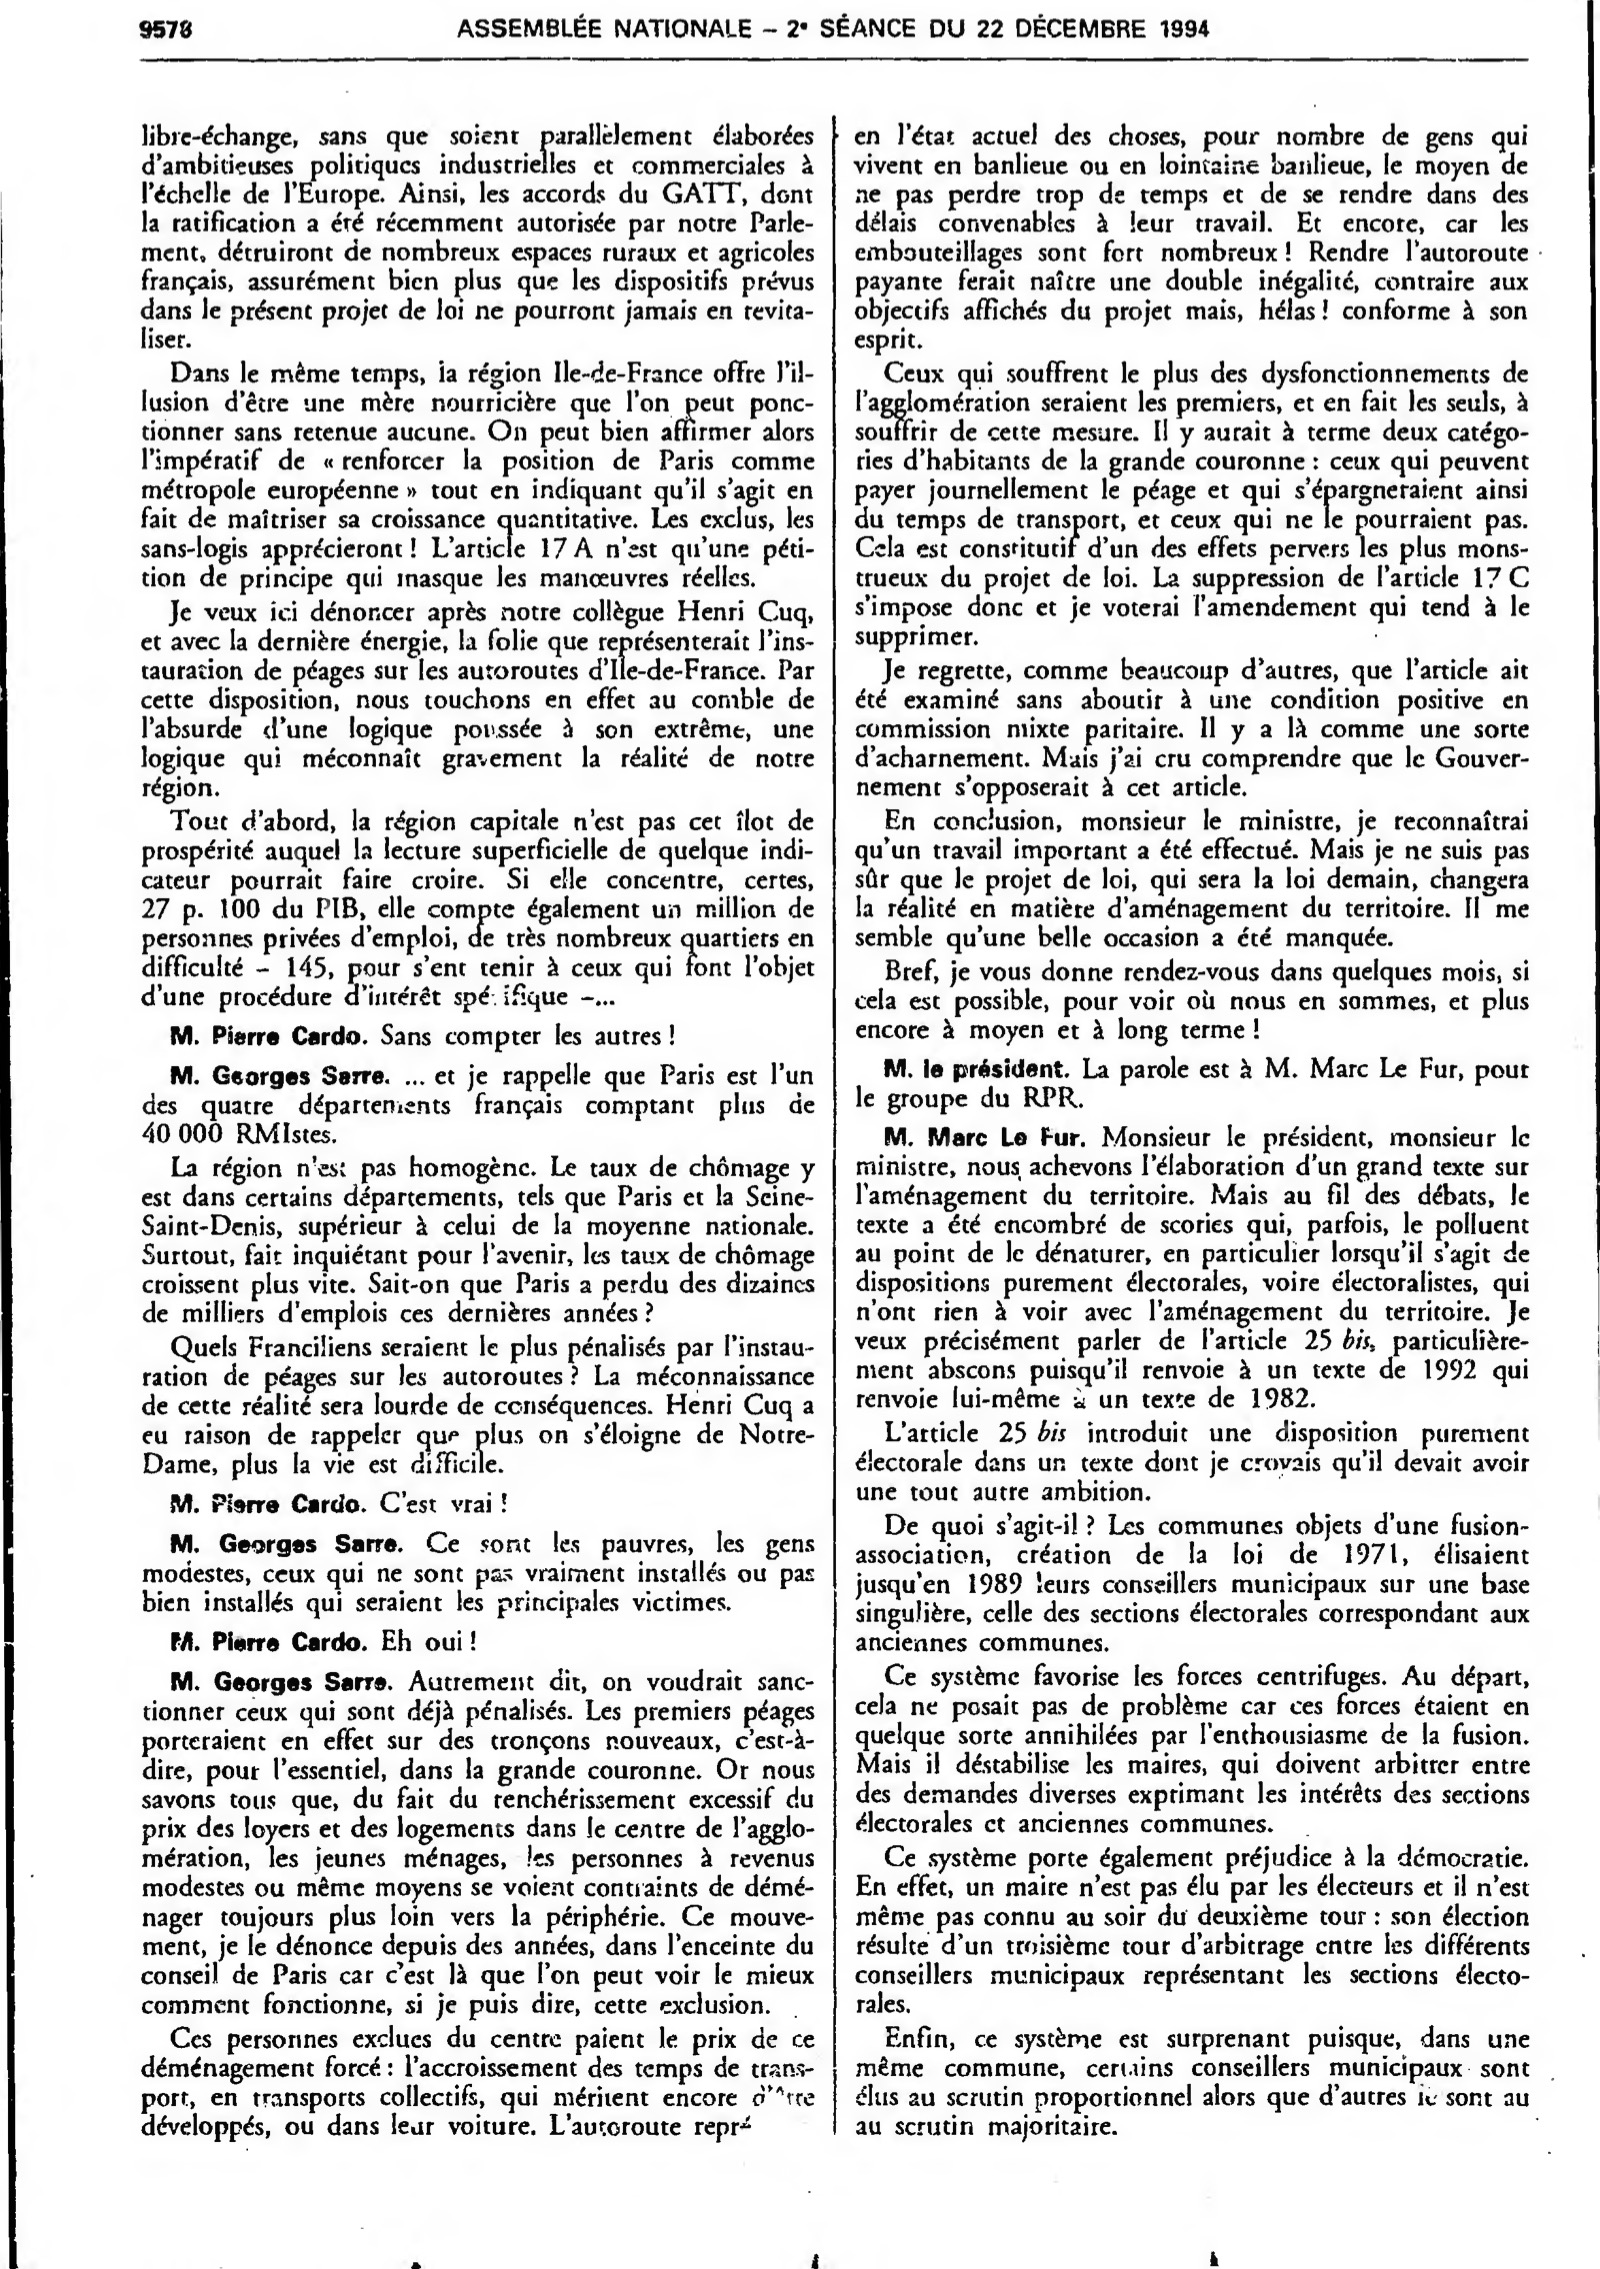MainZone-Continued: (847, 114, 1538, 355), (133, 114, 819, 353)
MainZone-P: (135, 1667, 819, 2016), (850, 358, 1538, 654), (850, 1120, 1538, 1416), (133, 355, 821, 594), (135, 805, 819, 1012), (135, 595, 821, 801), (852, 1660, 1538, 1840), (852, 1840, 1538, 2020), (133, 1153, 821, 1329), (133, 1329, 823, 1482), (852, 1507, 1538, 1658), (850, 654, 1538, 803), (852, 805, 1538, 952), (850, 2023, 1541, 2148), (130, 2025, 817, 2148), (135, 1527, 821, 1622), (850, 954, 1538, 1047), (850, 1416, 1539, 1507), (133, 1059, 819, 1151), (843, 1049, 1539, 1118), (135, 1016, 805, 1056), (142, 1487, 525, 1527), (144, 1622, 488, 1663)
NumberingZone: (132, 10, 201, 50)
RunningTitleZone: (450, 5, 1221, 54)
